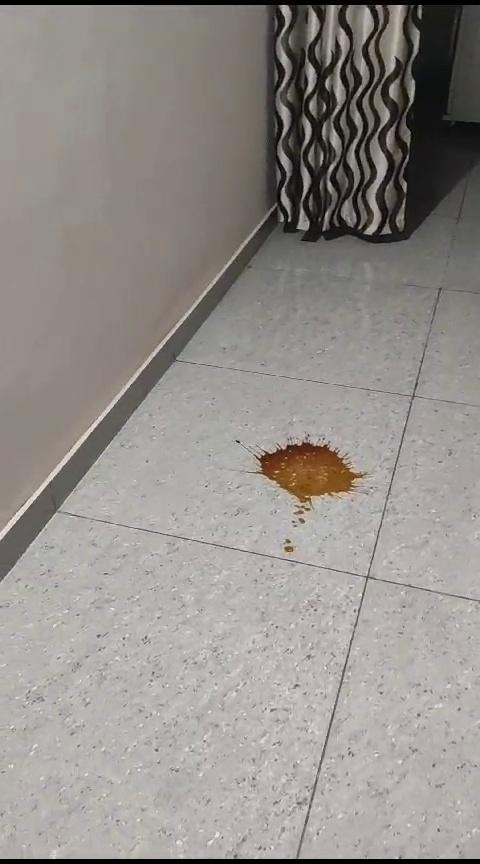dirty_floor: (242, 418, 374, 568)
